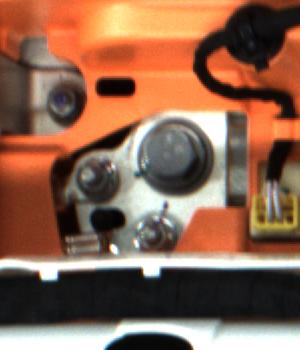nut_b: (138, 115, 220, 189)
